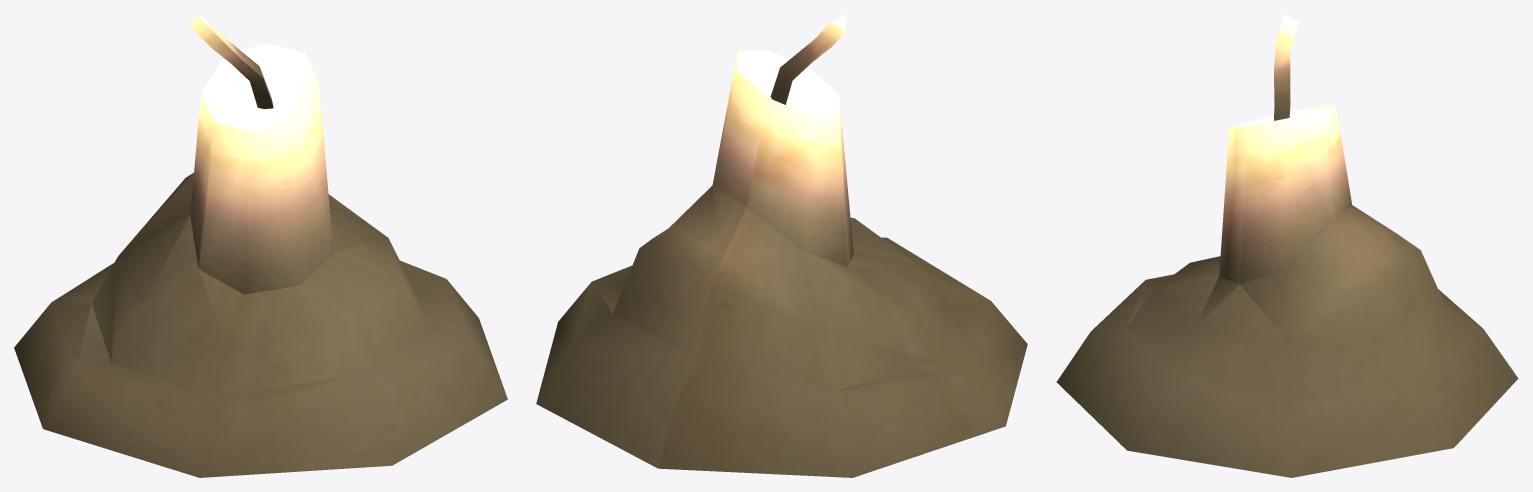
Rendered from CandleLowDetailTiny.dae.
3 renders of one model, left to right at view 1: azimuth 30°, elevation 25°; view 2: azimuth 150°, elevation 25°; view 3: azimuth 270°, elevation 25°, orthographic. The views are drawn at different scales.
Parts seen in each view (by area): view 1: Mesh; view 2: Mesh; view 3: Mesh.
Boxes of the visible parts, box(x1,y1,x2,y2) form: Mesh: box(14, 14, 507, 477); Mesh: box(536, 14, 1027, 477); Mesh: box(1056, 14, 1518, 477).
Bounding box in the file's own units: 0.0967 × 0.0781 × 0.0967.
